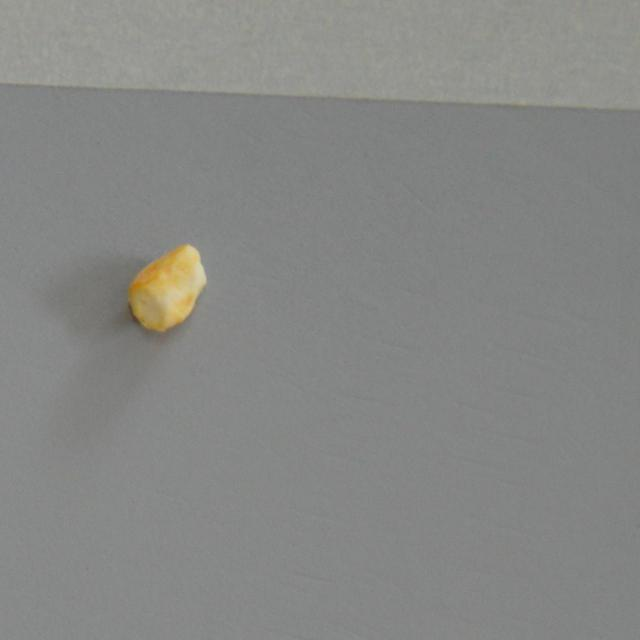pelicula: (126, 239, 210, 335)
